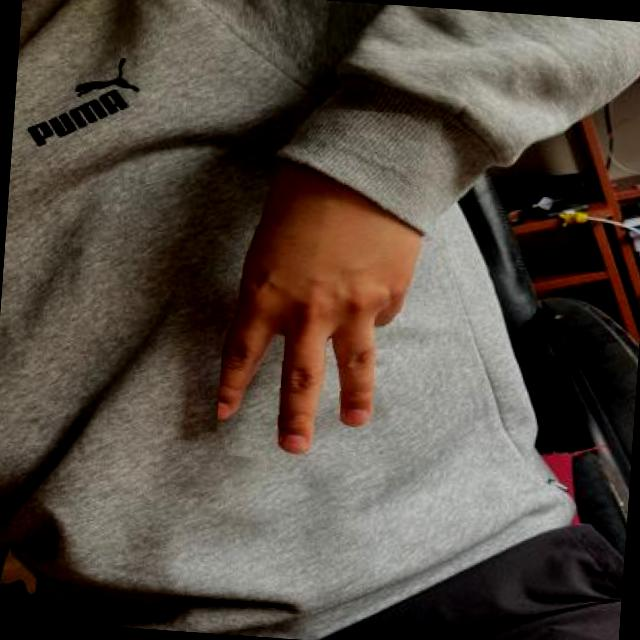M: (214, 102, 443, 469)
